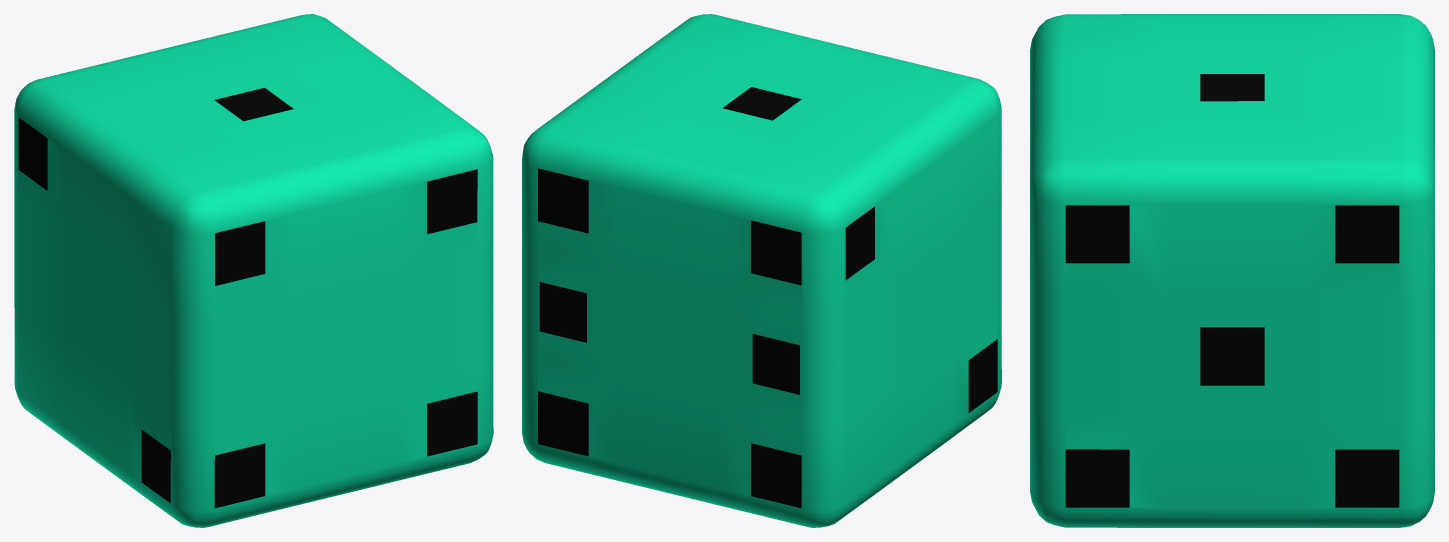
Rendered from ReRollDice1.fbx.
3 views of the same model, side by side, from view 1: azimuth 30°, elevation 25°; view 2: azimuth 150°, elevation 25°; view 3: azimuth 270°, elevation 25° (orthographic). The views are drawn at different scales.
Parts seen in each view (by area): view 1: ReRoll; view 2: ReRoll; view 3: ReRoll.
Boxes of the visible parts, box(x1,y1,x2,y2) form: ReRoll: box(14, 14, 493, 527); ReRoll: box(522, 14, 1001, 527); ReRoll: box(1030, 14, 1434, 527).
Size of the model in its own units: 200 by 200 by 200.
